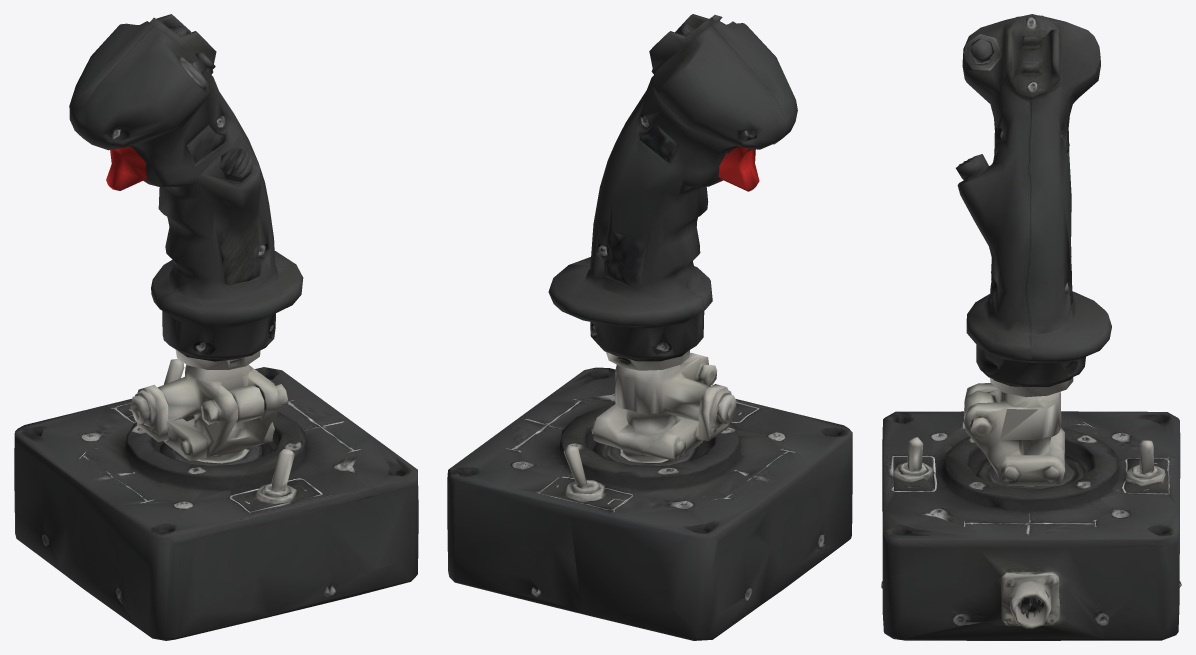
File: hand_controller.glb
The picture shows the model from 3 angles, left to right: view 1: azimuth 30°, elevation 25°; view 2: azimuth 150°, elevation 25°; view 3: azimuth 270°, elevation 25°; orthographic projection. The views are drawn at different scales.
Visible parts, largest first — view 1: tripo_node_c1c1c08f-d102-4f6f-8802-43827330f267; view 2: tripo_node_c1c1c08f-d102-4f6f-8802-43827330f267; view 3: tripo_node_c1c1c08f-d102-4f6f-8802-43827330f267.
Boxes of the visible parts, x1,y1,x2,y2 form: tripo_node_c1c1c08f-d102-4f6f-8802-43827330f267: (14, 14, 418, 640); tripo_node_c1c1c08f-d102-4f6f-8802-43827330f267: (447, 14, 852, 640); tripo_node_c1c1c08f-d102-4f6f-8802-43827330f267: (881, 14, 1181, 640).
Bounding box in the file's own units: 0.1245 × 0.22 × 0.1115.
1 material, 1 textured.
